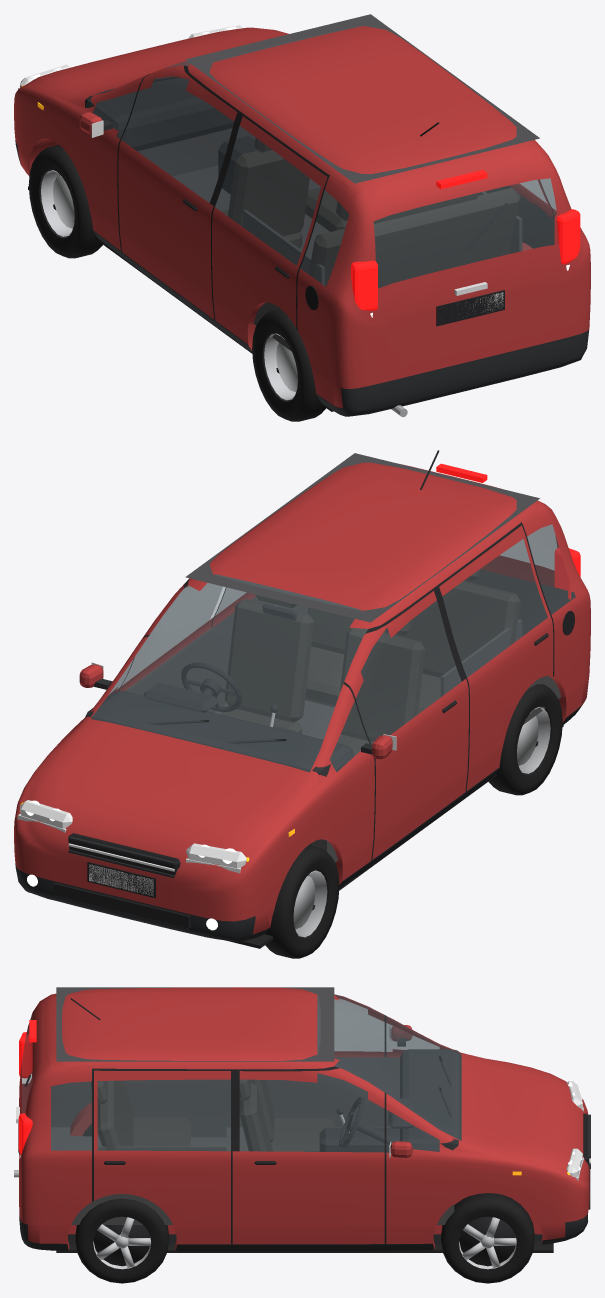
Rendered from hatchback.glb.
3 renders of one model, top to bottom at view 1: azimuth 30°, elevation 25°; view 2: azimuth 150°, elevation 25°; view 3: azimuth 270°, elevation 25°, orthographic. The views are drawn at different scales.
Parts seen in each view (by area): view 1: car_body, door_rl, wheel_fl, wheel_rl, door_rr; view 2: car_body, door_rl, door_fr, wheel_fl, wheel_rl, door_rr; view 3: car_body, door_fr, door_rr, wheel_fr, wheel_rr, door_rl.
Boxes of the visible parts, <box> form: car_body: <box>14,14,590,417</box>; door_rl: <box>212,116,327,344</box>; wheel_fl: <box>28,145,102,258</box>; wheel_rl: <box>252,310,326,421</box>; door_rr: <box>478,179,552,253</box>; car_body: <box>14,450,590,948</box>; door_rl: <box>439,526,553,790</box>; door_fr: <box>119,583,222,712</box>; wheel_fl: <box>265,845,339,958</box>; wheel_rl: <box>488,684,562,795</box>; door_rr: <box>212,588,308,626</box>; car_body: <box>14,987,590,1252</box>; door_fr: <box>232,1068,384,1244</box>; door_rr: <box>94,1070,230,1244</box>; wheel_fr: <box>441,1193,534,1283</box>; wheel_rr: <box>75,1198,168,1283</box>; door_rl: <box>97,1079,226,1137</box>.
Size of the model in its own units: 1.98 by 1.78 by 3.94.
